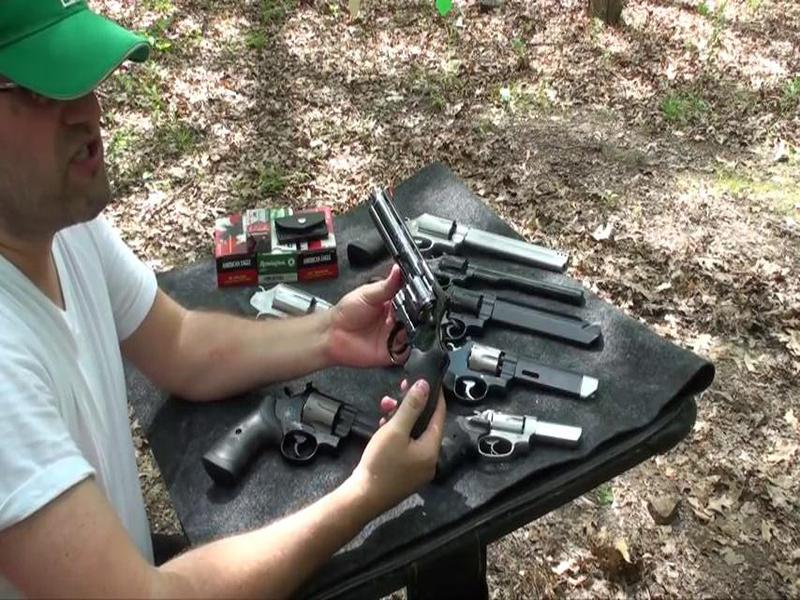Revolver: (330, 177, 459, 457)
